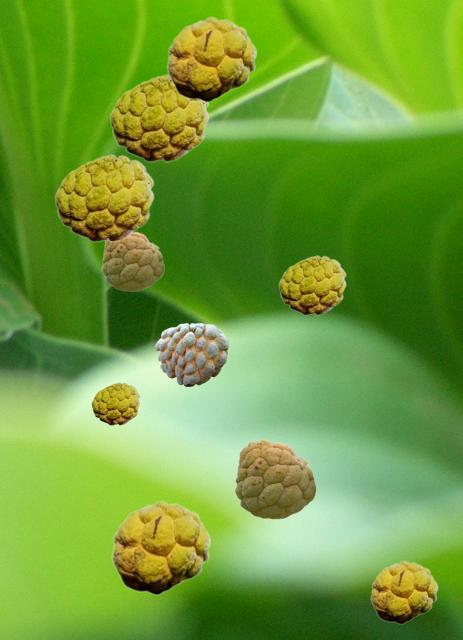atis: (111, 500, 210, 594), (54, 154, 153, 241), (109, 74, 208, 161), (166, 16, 256, 101), (234, 439, 315, 518), (155, 323, 227, 385), (370, 560, 437, 623), (278, 255, 345, 314), (101, 231, 163, 290), (91, 382, 139, 424)
